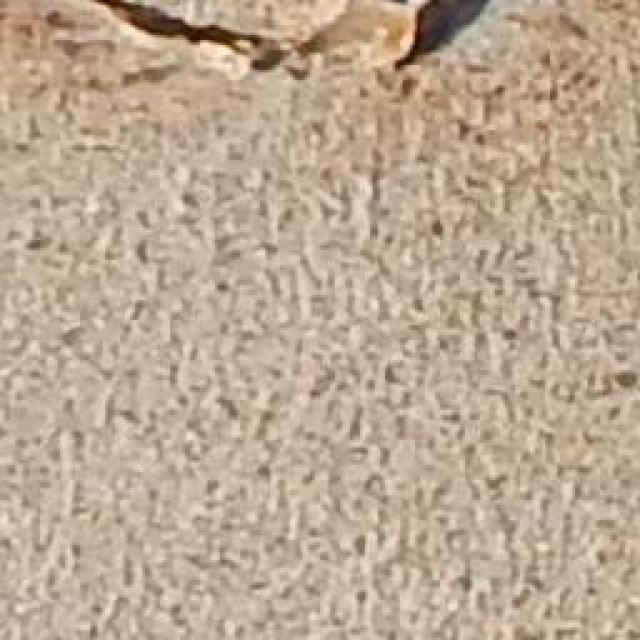concrete-crack: (92, 0, 321, 76), (388, 0, 506, 79)
